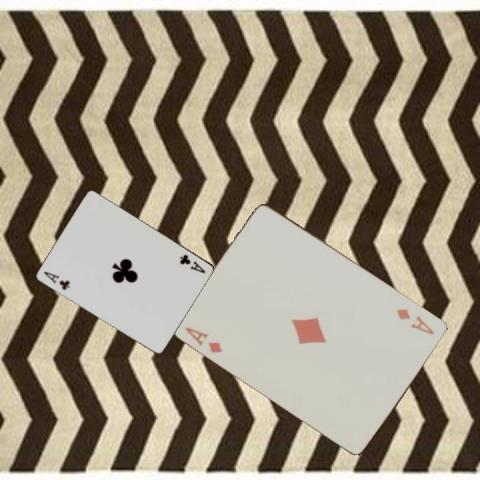Ac: (176, 251, 207, 275), (40, 268, 70, 292)
Ad: (182, 323, 224, 355), (394, 305, 437, 336)
